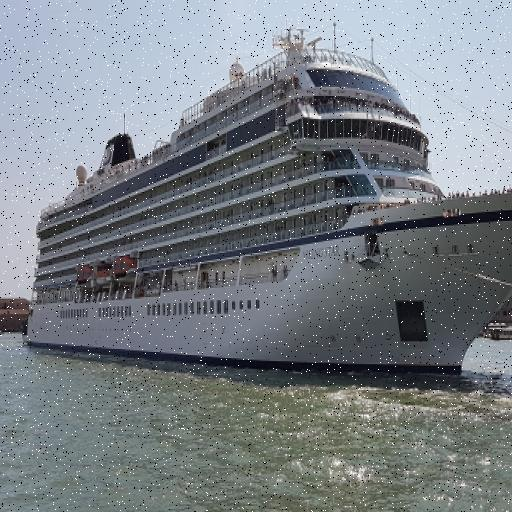cruises: (20, 10, 512, 398)
